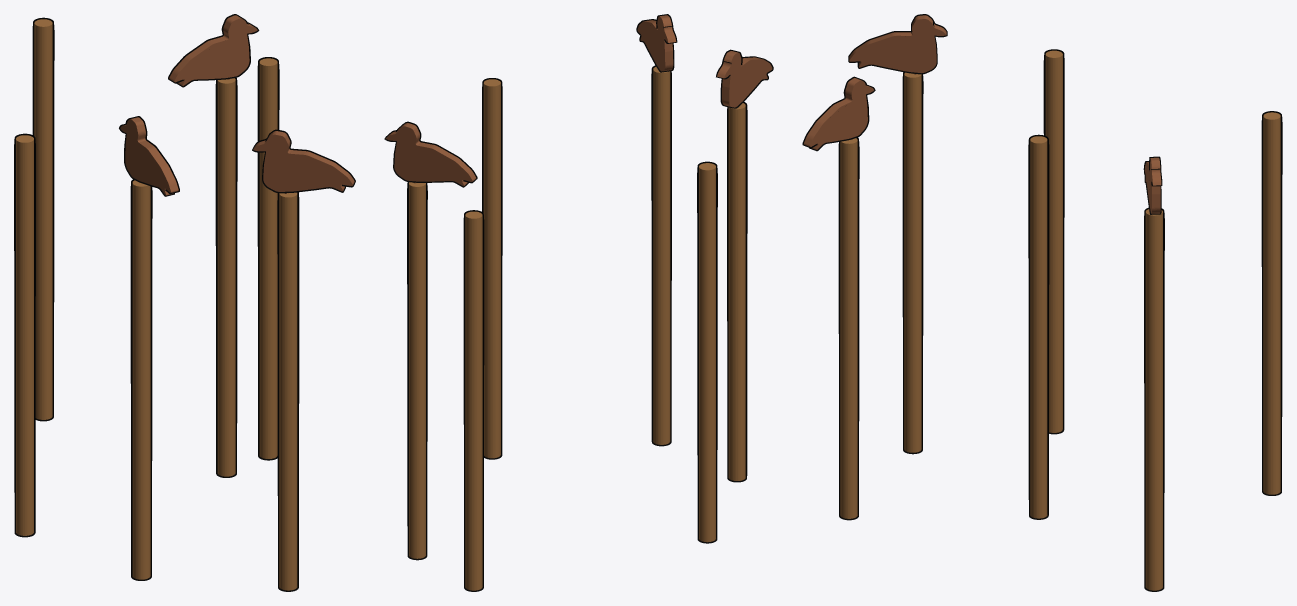
Rendered from sottdae01.glb.
3 renders of one model, left to right at view 1: azimuth 30°, elevation 25°; view 2: azimuth 150°, elevation 25°; view 3: azimuth 270°, elevation 25°, orthographic. The views are drawn at different scales.
Parts seen in each view (by area): view 1: Cylinder.005, sottdae02; view 2: Cylinder.005, sottdae02; view 3: Cylinder.005, sottdae02.
Part boxes in pixels (<box>): Cylinder.005: <box>14,17,299,591</box>; sottdae02: <box>119,14,355,196</box>; Cylinder.005: <box>407,65,747,591</box>; sottdae02: <box>384,14,773,187</box>; Cylinder.005: <box>838,49,1282,591</box>; sottdae02: <box>802,14,1162,214</box>.
Size of the model in its own units: 5.51 by 8.83 by 8.12.
